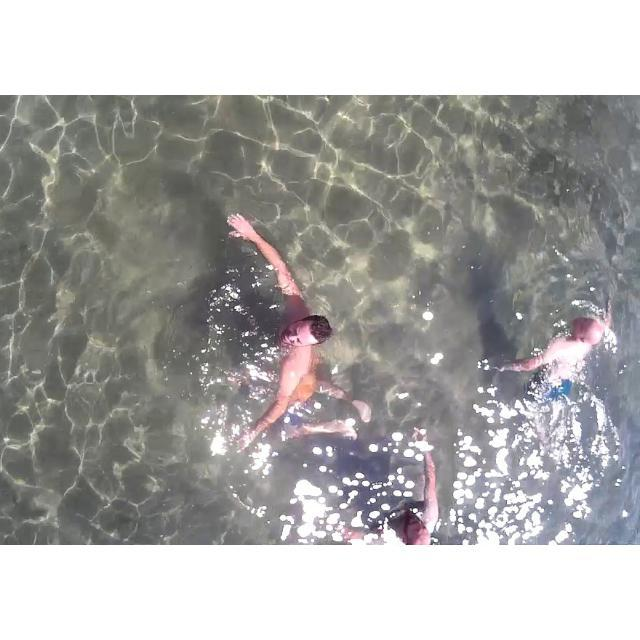human: (220, 190, 358, 456), (482, 295, 618, 420)
